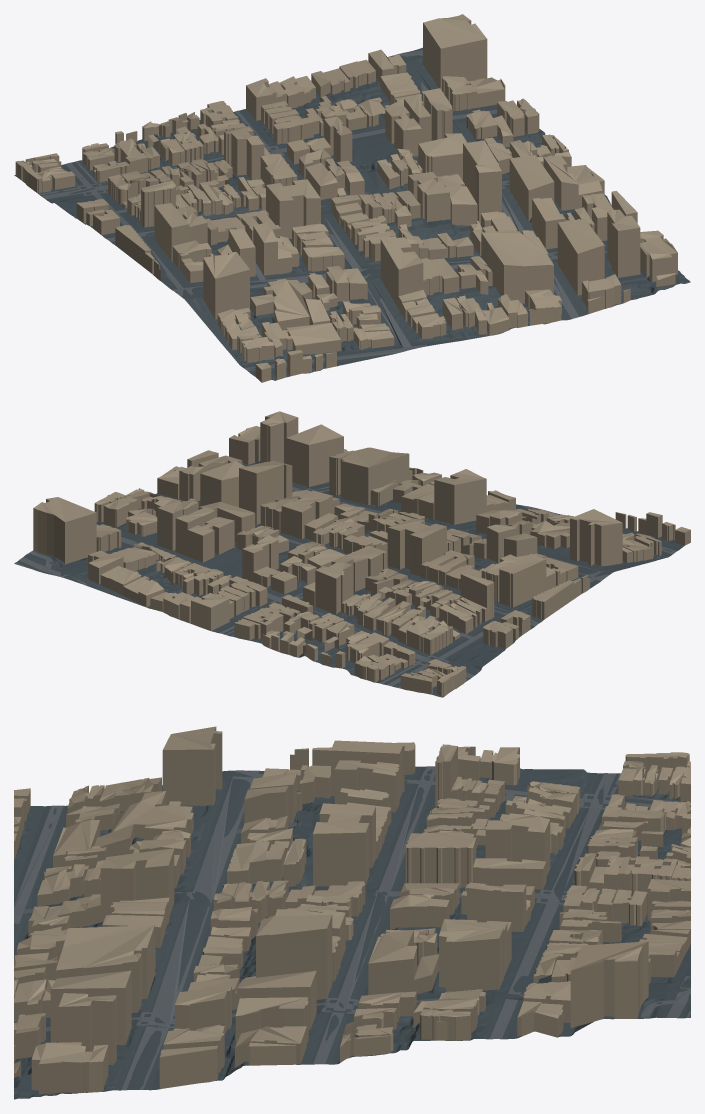
Rendered from epsg26910-1432-10893.lod0.glb.
3 views of the same model, one above another, from view 1: azimuth 30°, elevation 25°; view 2: azimuth 150°, elevation 25°; view 3: azimuth 270°, elevation 25° (orthographic). The views are drawn at different scales.
Parts seen in each view (by area): view 1: epsg26910-1432-10893-lod0; view 2: epsg26910-1432-10893-lod0; view 3: epsg26910-1432-10893-lod0.
Boxes of the visible parts, bbox=[...] form: epsg26910-1432-10893-lod0: bbox=[14, 14, 690, 382]; epsg26910-1432-10893-lod0: bbox=[14, 411, 690, 697]; epsg26910-1432-10893-lod0: bbox=[14, 726, 690, 1099].
Size of the model in its own units: 384 by 93.16 by 384.
